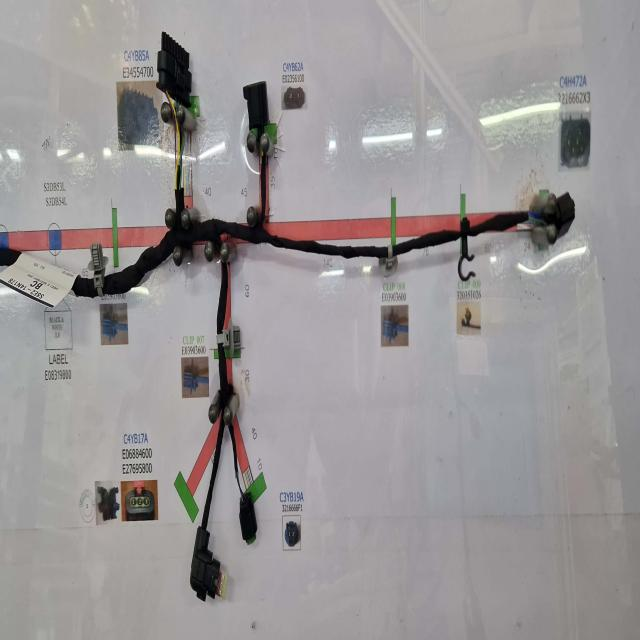Clip: (458, 213, 475, 278), (88, 239, 108, 293), (214, 326, 238, 366), (382, 238, 400, 270)
Connector: (158, 35, 192, 111), (190, 534, 220, 607), (242, 82, 269, 133), (239, 497, 258, 551), (554, 190, 574, 234)
Gape: (164, 100, 186, 194), (526, 203, 552, 229), (236, 477, 248, 503)
Info: (0, 258, 71, 312)
MHEV_N11_Cable: (73, 160, 530, 535)
